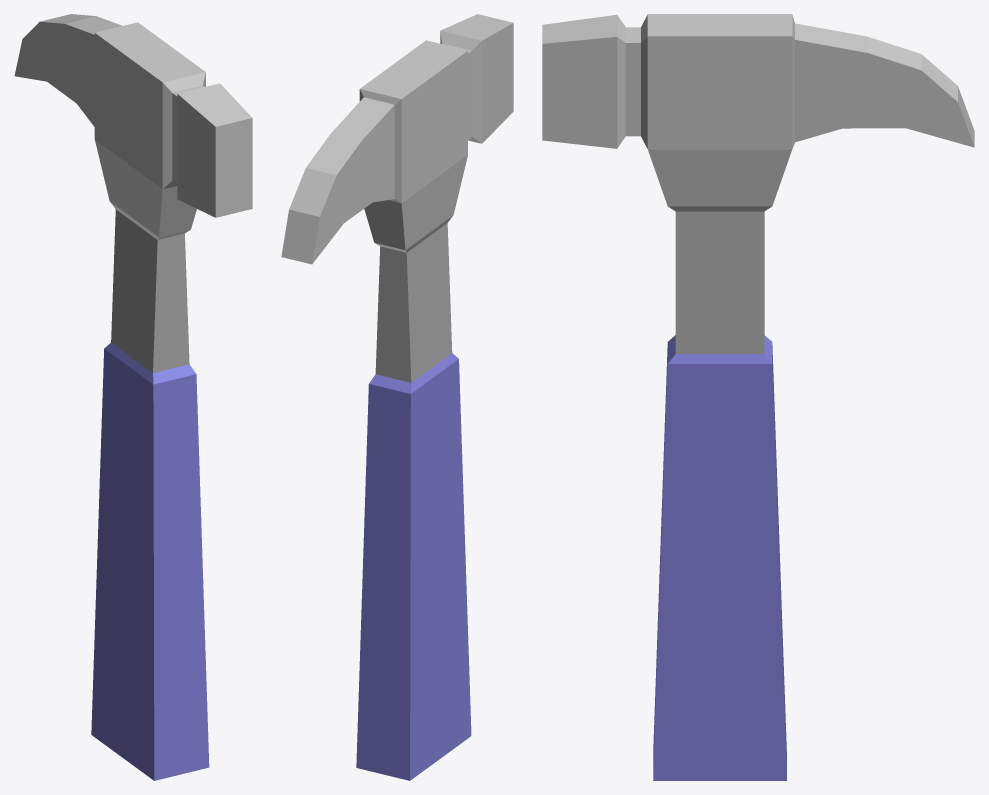
Rendered from hammer.fbx.
3 views of the same model, side by side, from view 1: azimuth 30°, elevation 25°; view 2: azimuth 150°, elevation 25°; view 3: azimuth 270°, elevation 25° (orthographic). The views are drawn at different scales.
Parts seen in each view (by area): view 1: hammer; view 2: hammer; view 3: hammer.
Boxes of the visible parts, bbox=[...] form: hammer: bbox=[14, 14, 252, 780]; hammer: bbox=[281, 14, 513, 780]; hammer: bbox=[542, 14, 974, 780].
Bounding box in the file's own units: 22.19 × 270 × 142.
